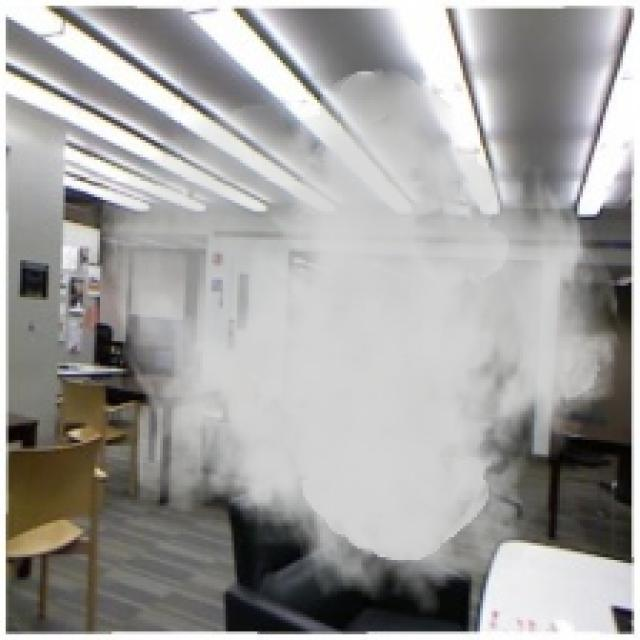smoke: (91, 69, 626, 617)
